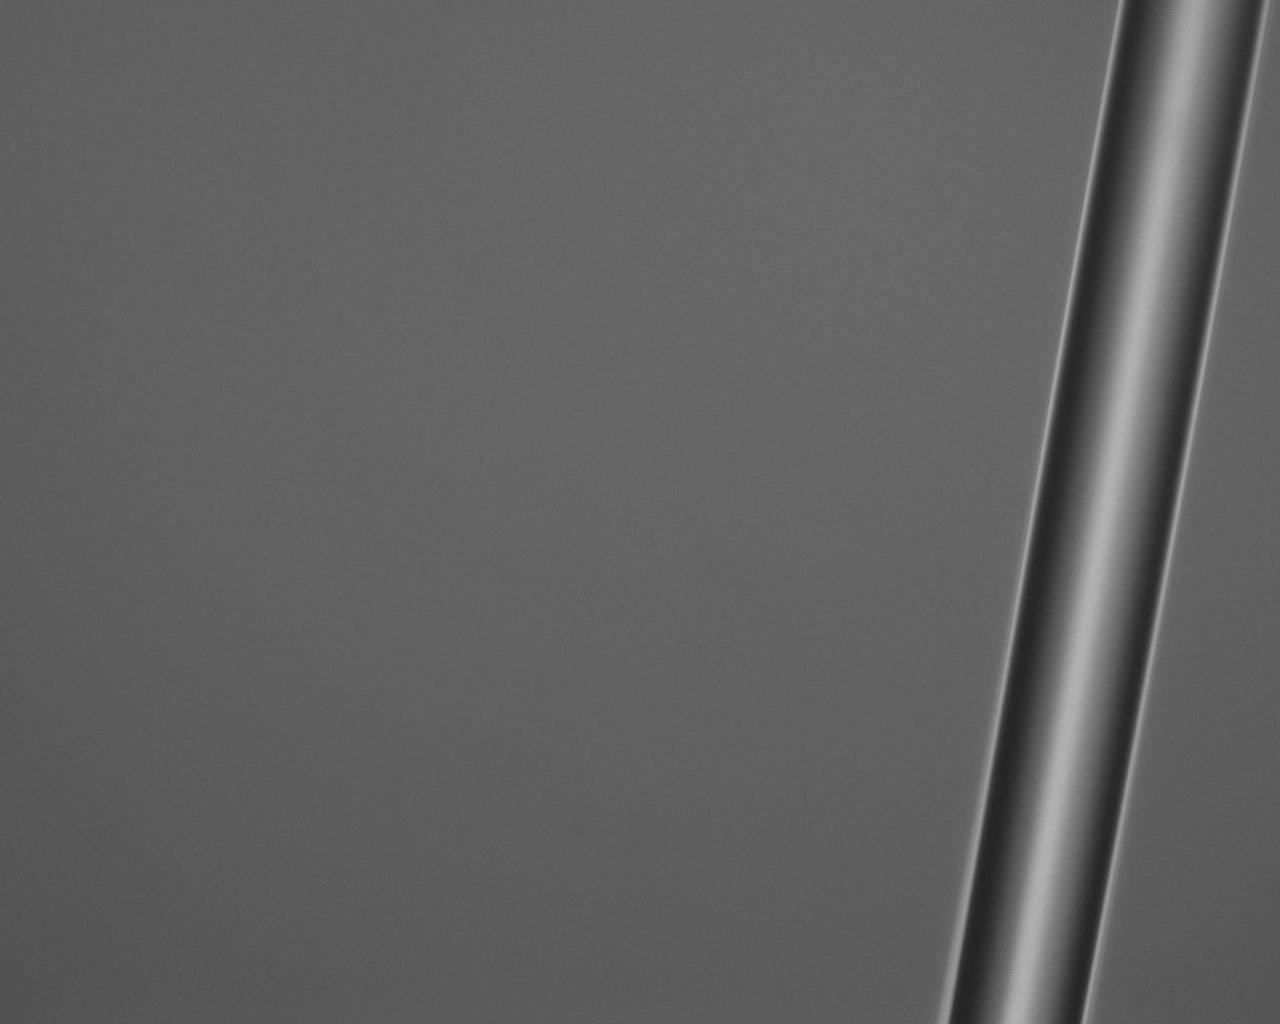fiber: (0, 501, 391, 1024), (513, 501, 626, 1024), (79, 0, 190, 501), (743, 0, 1280, 71)
